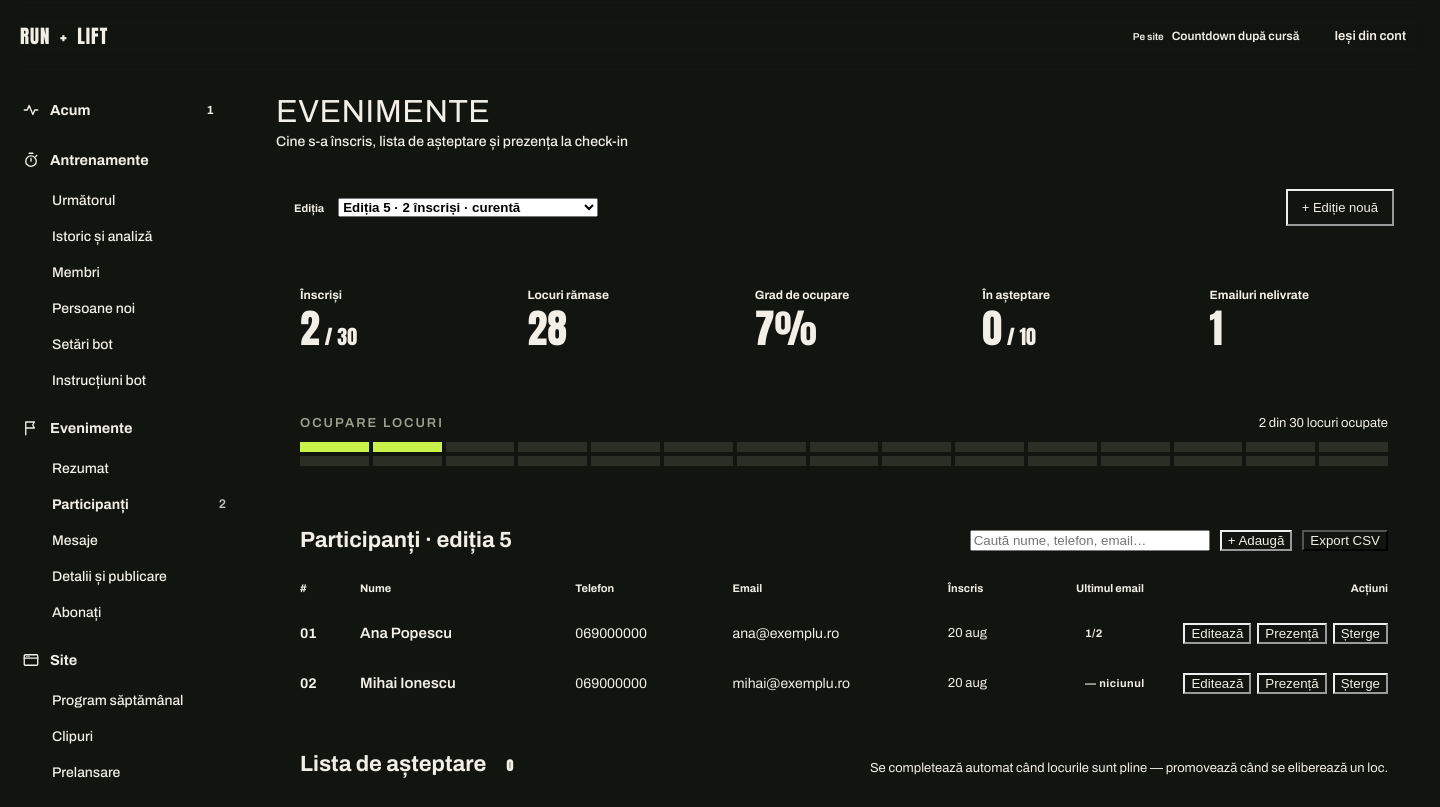
Test: AdminDashboard — căutarea în participanți › filtrează după nume
Expected: the text "Ana Popescu" is shown, [360,625,452,641]
Type "Ana" into the search field named "Caută în lista de participanți" at (1090, 540), box [970,530,1210,550]
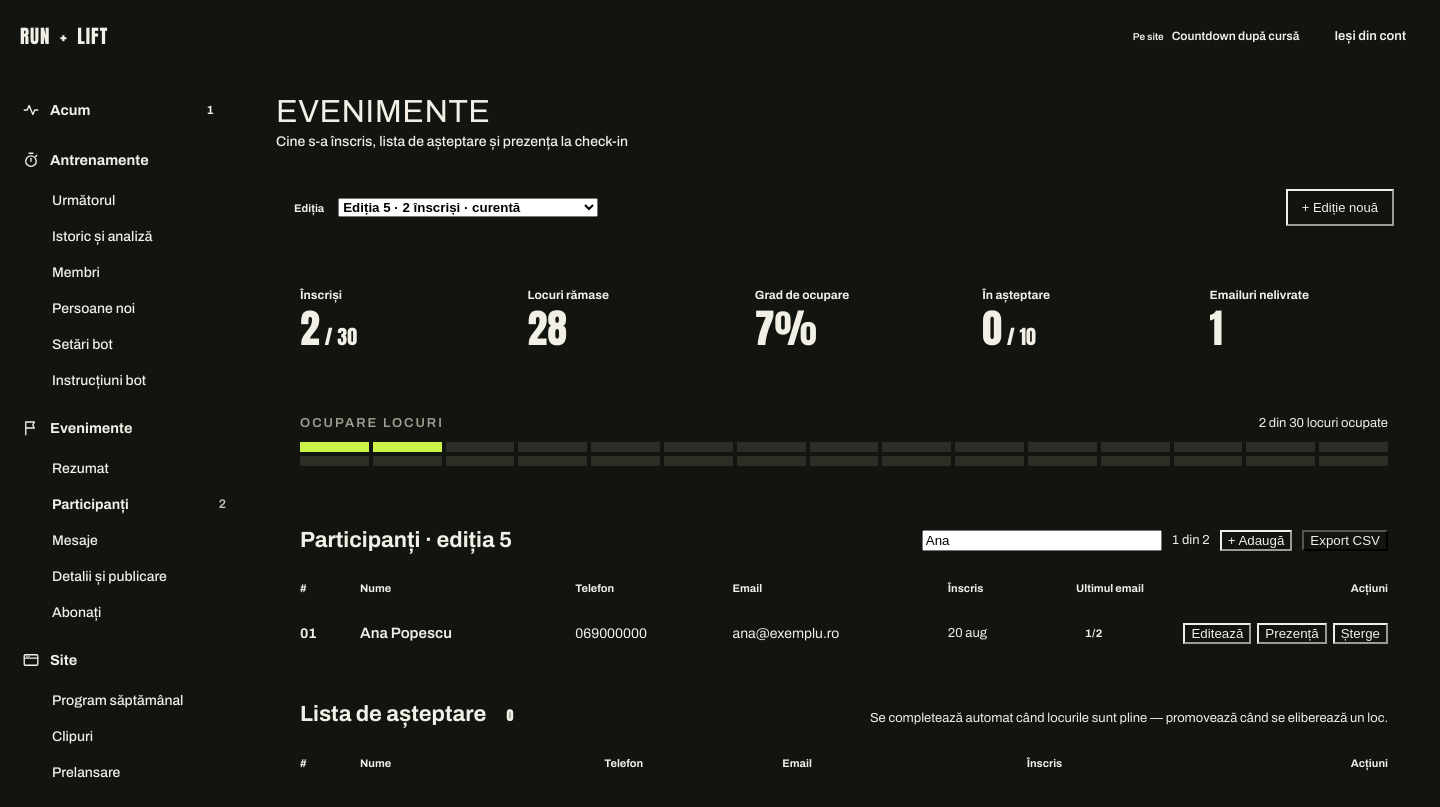
Expected: the text "Ana Popescu" is shown, [360,625,452,641]
Result: the text "Mihai Ionescu" is gone
